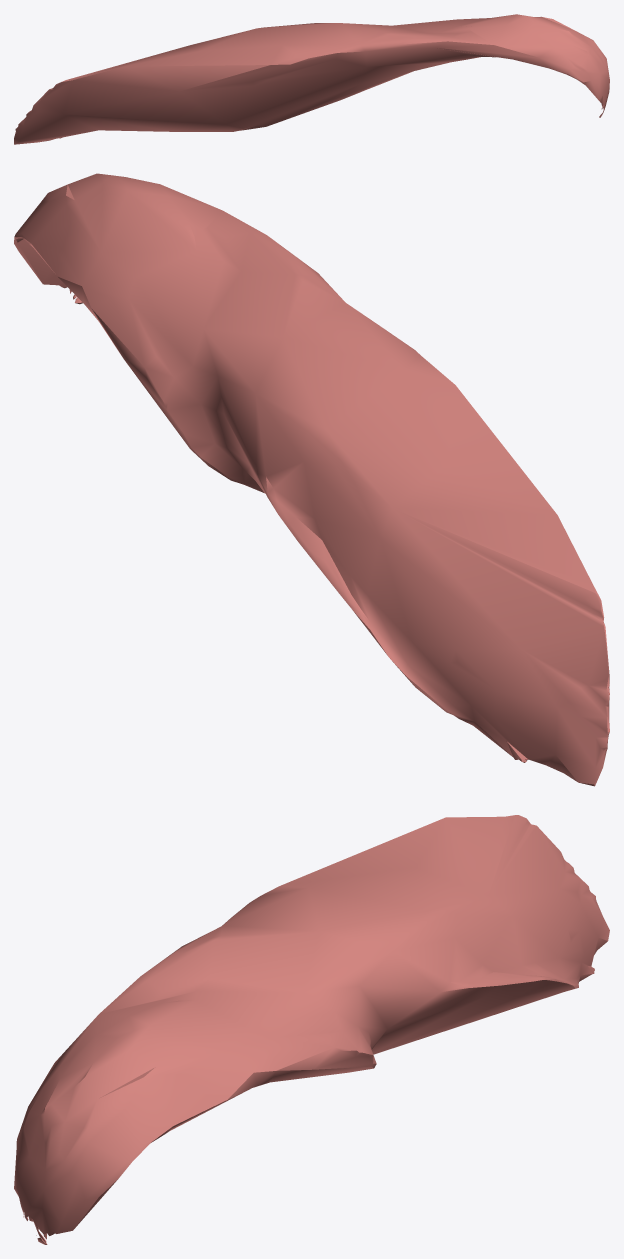
Rendered from fma32545_fj1506m.glb.
3 renders of one model, top to bottom at view 1: azimuth 30°, elevation 25°; view 2: azimuth 150°, elevation 25°; view 3: azimuth 270°, elevation 25°, orthographic. The views are drawn at different scales.
Parts seen in each view (by area): view 1: FMA32545_FJ1506M; view 2: FMA32545_FJ1506M; view 3: FMA32545_FJ1506M.
Boxes of the visible parts, x1,y1,x2,y2 form: FMA32545_FJ1506M: (14, 14, 609, 144); FMA32545_FJ1506M: (14, 173, 609, 786); FMA32545_FJ1506M: (14, 815, 609, 1244).
Size of the model in its own units: 0.1246 by 0.035 by 0.0789.
